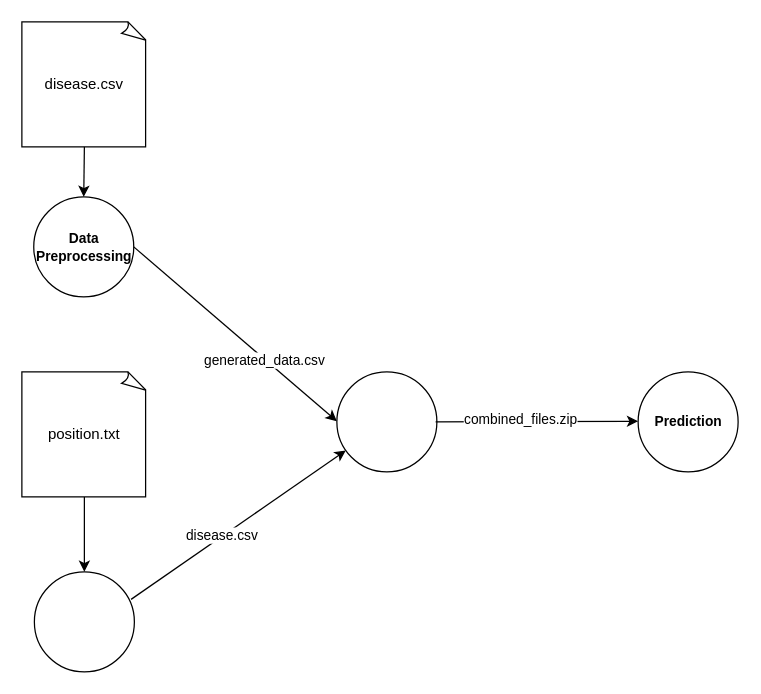
The diagram is 761 pixels wide and 694 high, and some of its shapes have lost their labels. The shapes that lost their labels are listed below. From the top down, each one's centre as x and y in pixels, then its label:
At (x=386, y=421): "Feature Selection".
At (x=83, y=621): "Data Generation".
